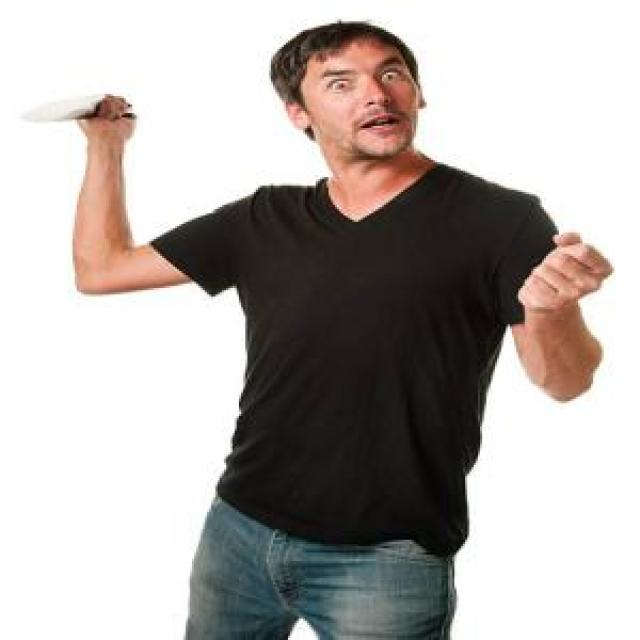knife: (17, 94, 131, 131)
